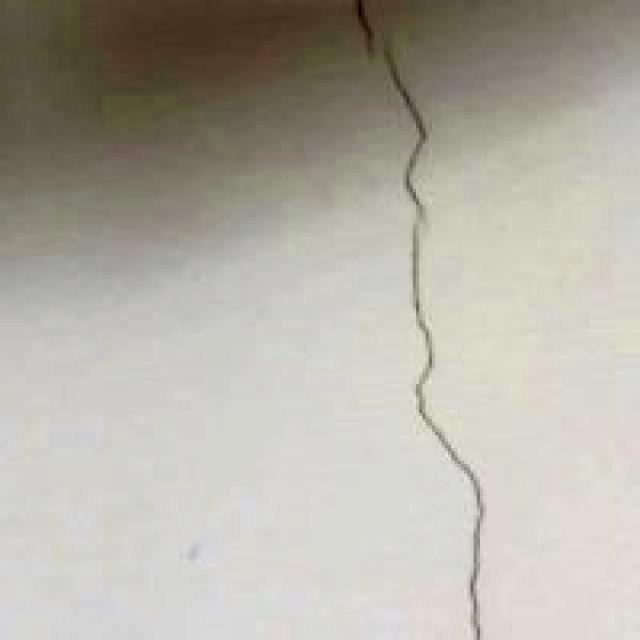crack: (326, 0, 508, 640)
